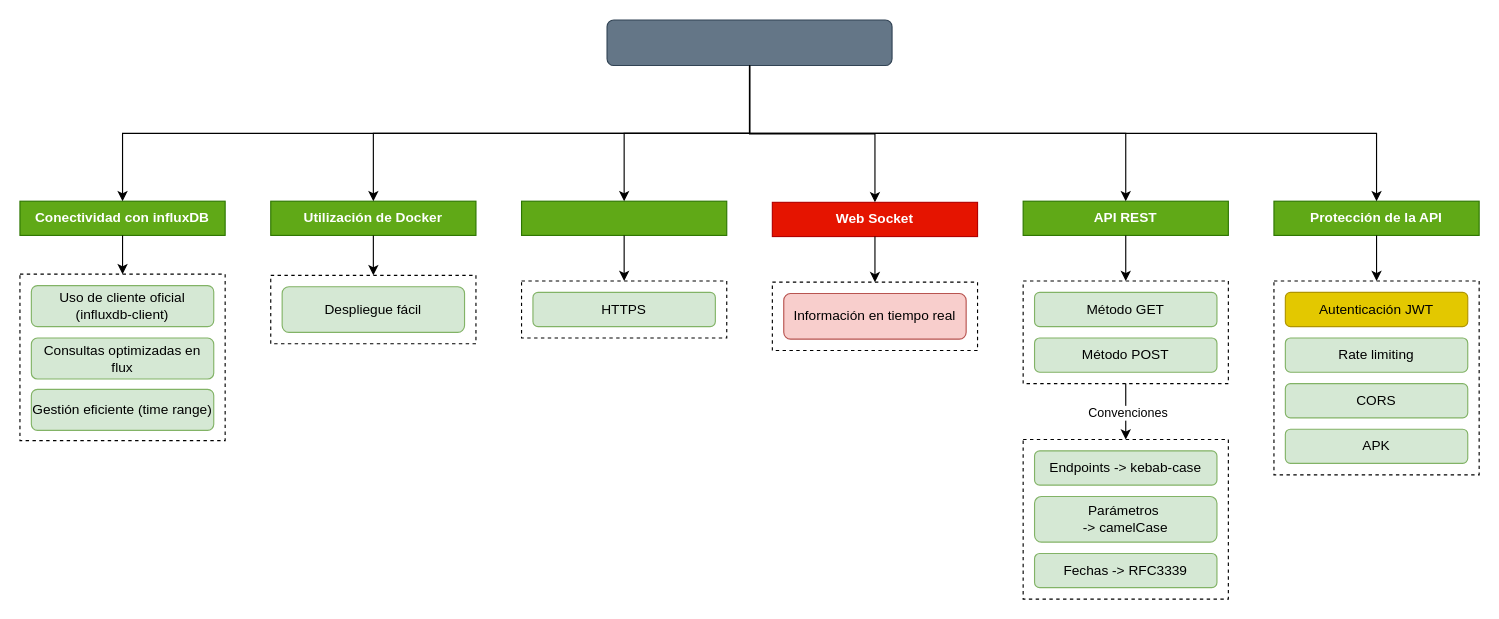
The diagram is 1499 pixels wide and 619 high, and some of its shapes have lost their labels. The box of each missing label's shape, as (x1, y1, x2, y2) in pixels:
Seguridad de conexiones: (520, 200, 727, 235)
Sensores "Destellos": (606, 19, 892, 66)
